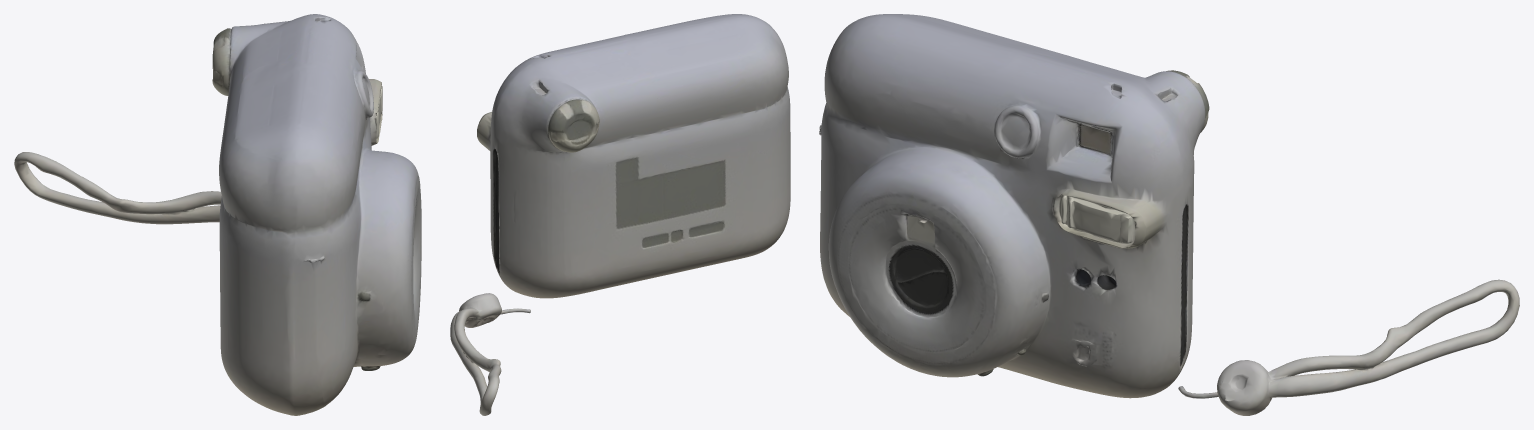
File: FUJI_EXP.glb
The picture shows the model from 3 angles, left to right: view 1: azimuth 30°, elevation 25°; view 2: azimuth 150°, elevation 25°; view 3: azimuth 270°, elevation 25°; orthographic projection. The views are drawn at different scales.
Parts seen in each view (by area): view 1: tripo_node_704e40c7-d49b-48d3-afcc-c91d4d3c6ee8; view 2: tripo_node_704e40c7-d49b-48d3-afcc-c91d4d3c6ee8; view 3: tripo_node_704e40c7-d49b-48d3-afcc-c91d4d3c6ee8.
Part boxes in pixels (x1,y1,x2,y2): tripo_node_704e40c7-d49b-48d3-afcc-c91d4d3c6ee8: [14, 14, 421, 415]; tripo_node_704e40c7-d49b-48d3-afcc-c91d4d3c6ee8: [450, 14, 790, 415]; tripo_node_704e40c7-d49b-48d3-afcc-c91d4d3c6ee8: [819, 14, 1519, 415].
Bounding box in the file's own units: 0.1653 × 0.1776 × 0.3554.
Materials: 1 (1 with a texture image).
